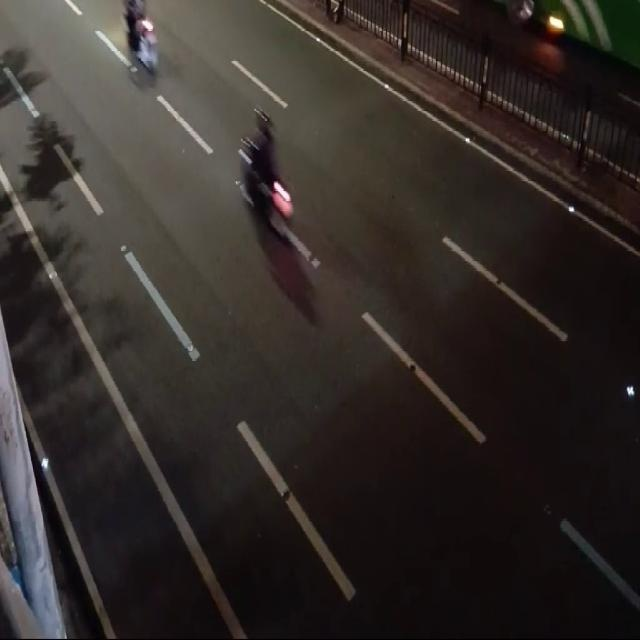motorcycle: (229, 103, 303, 250)
